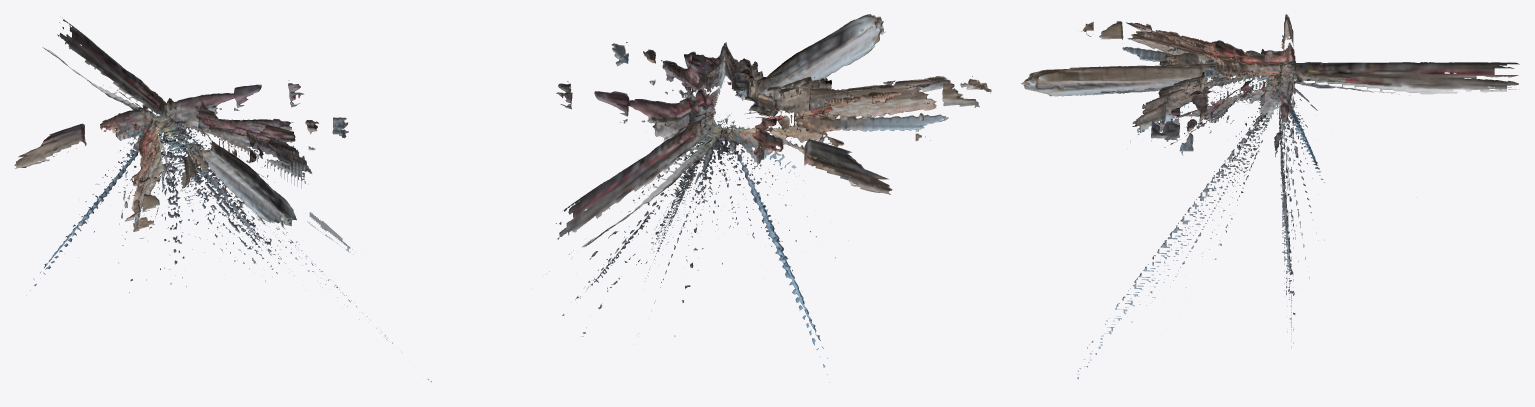
Rendered from collider_mesh.glb.
3 views of the same model, side by side, from view 1: azimuth 30°, elevation 25°; view 2: azimuth 150°, elevation 25°; view 3: azimuth 270°, elevation 25° (orthographic). The views are drawn at different scales.
Parts seen in each view (by area): view 1: world; view 2: world; view 3: world.
Boxes of the visible parts, left/top/right/bottom form: world: left=14, top=19, right=431, bottom=382; world: left=549, top=14, right=991, bottom=382; world: left=1021, top=14, right=1519, bottom=379.
Size of the model in its own units: 36.41 by 25.07 by 45.92.
